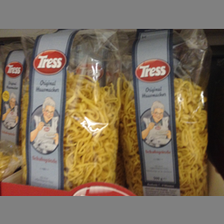pasta: (20, 31, 121, 190), (117, 30, 209, 195)
